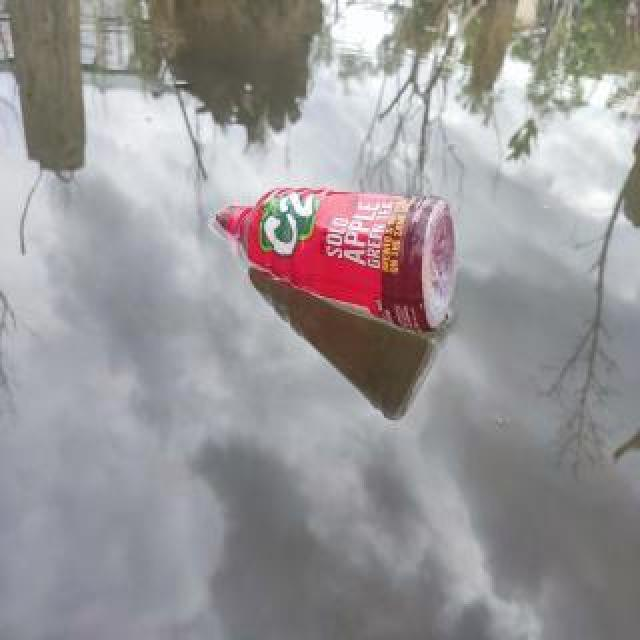Bottle: (208, 178, 464, 344)
